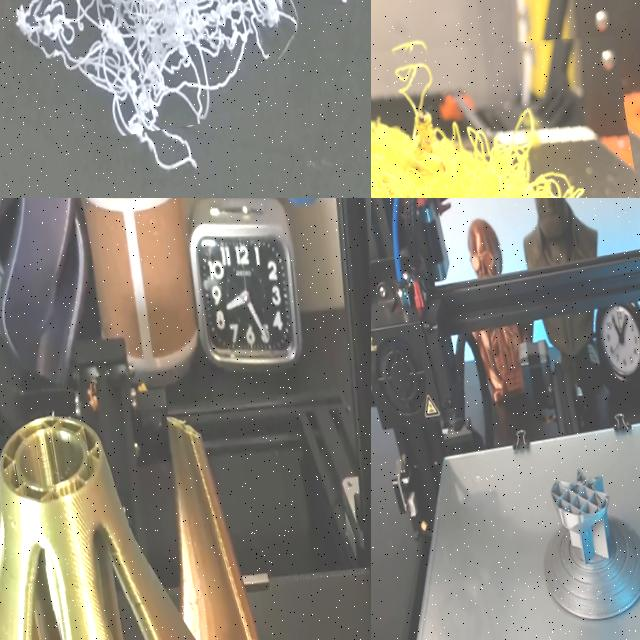spaghetti: (0, 0, 371, 148), (371, 0, 640, 198)
